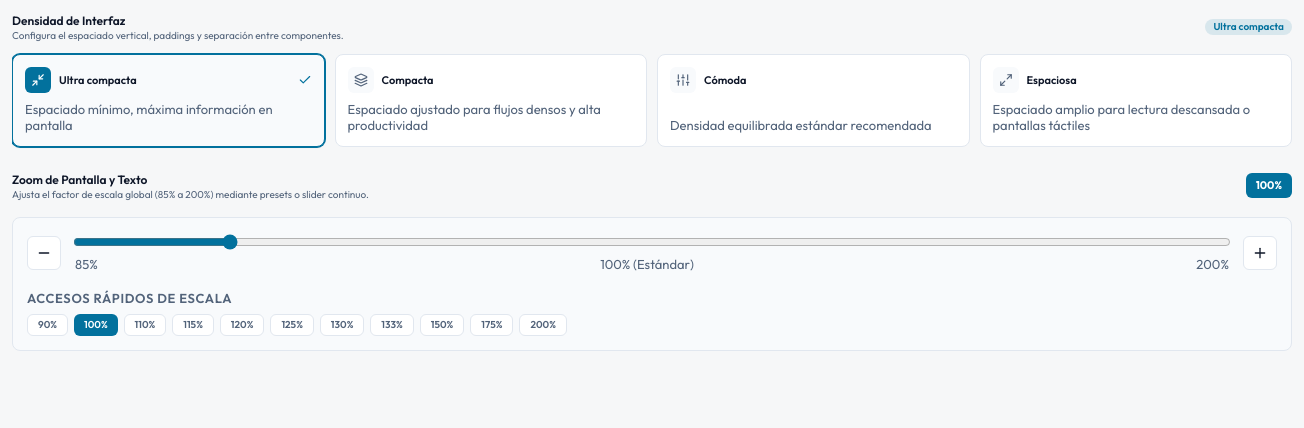
it: DensityZoomSelector Component › updates zoom percentage via continuous slider
The image size is (1304, 428).
Set the slider named "Ajuste de zoom continuo" to "118". click: [409, 242]
box: top-left (73, 238), bottom-right (1231, 246)
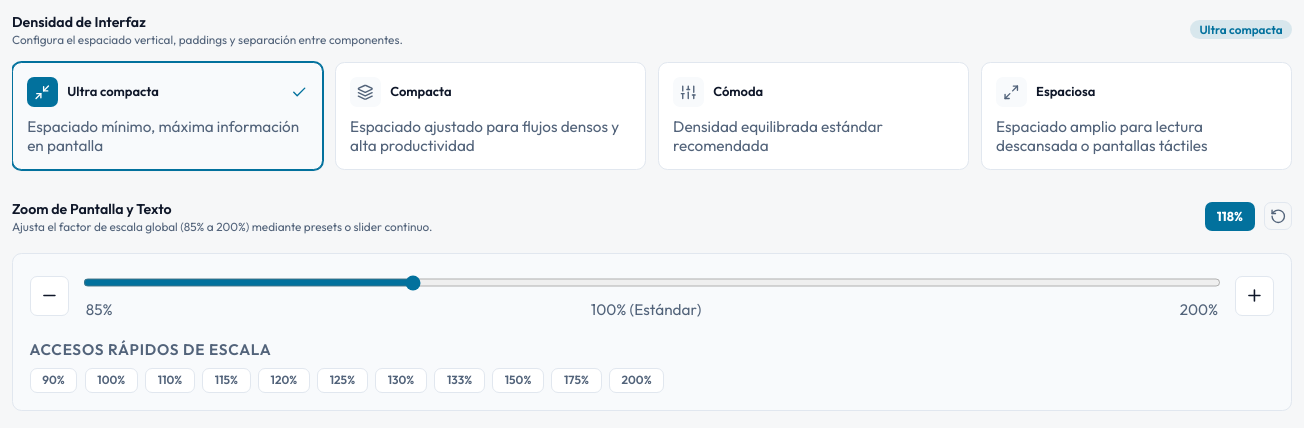
Expected: the text with test id "zoom-percentage-badge" reads "118%", top-left (1205, 202), bottom-right (1255, 231)
